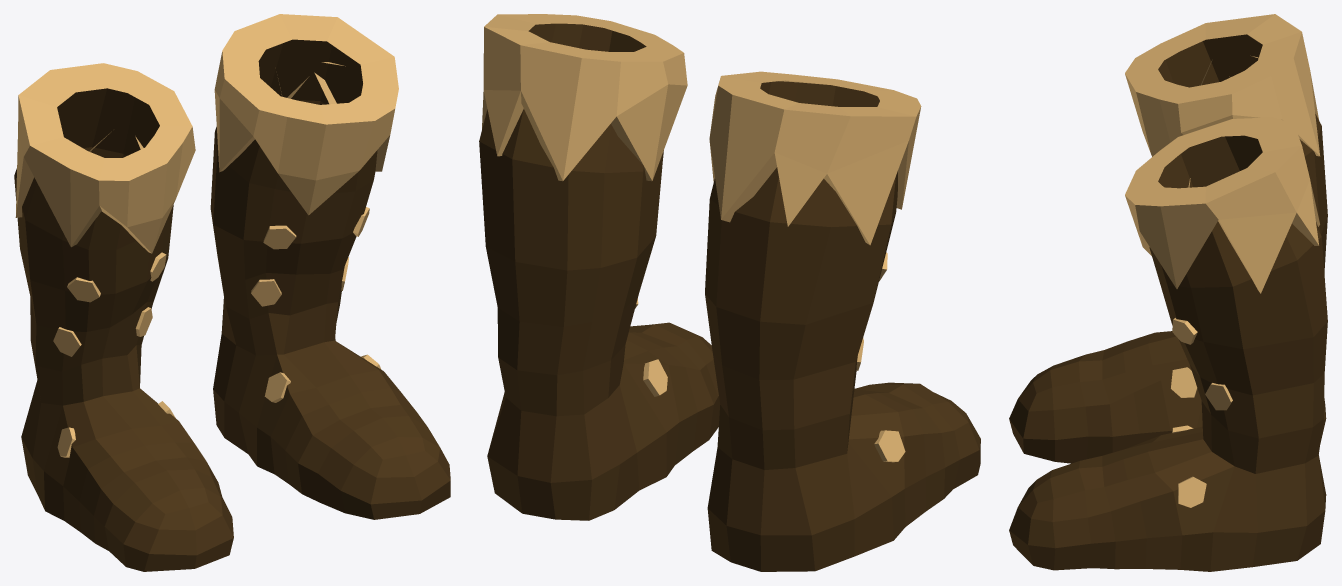
Rendered from Icon 1.fbx.
3 renders of one model, left to right at view 1: azimuth 30°, elevation 25°; view 2: azimuth 150°, elevation 25°; view 3: azimuth 270°, elevation 25°, orthographic. The views are drawn at different scales.
Visible parts, largest first — view 1: Shoe_2; view 2: Shoe_2; view 3: Shoe_2.
Part boxes in pixels (x1=…): Shoe_2: x1=14, y1=14, x2=450, y2=571; Shoe_2: x1=479, y1=14, x2=980, y2=571; Shoe_2: x1=1009, y1=14, x2=1327, y2=571.
Bounding box in the file's own units: 48.83 × 50.95 × 36.44.
